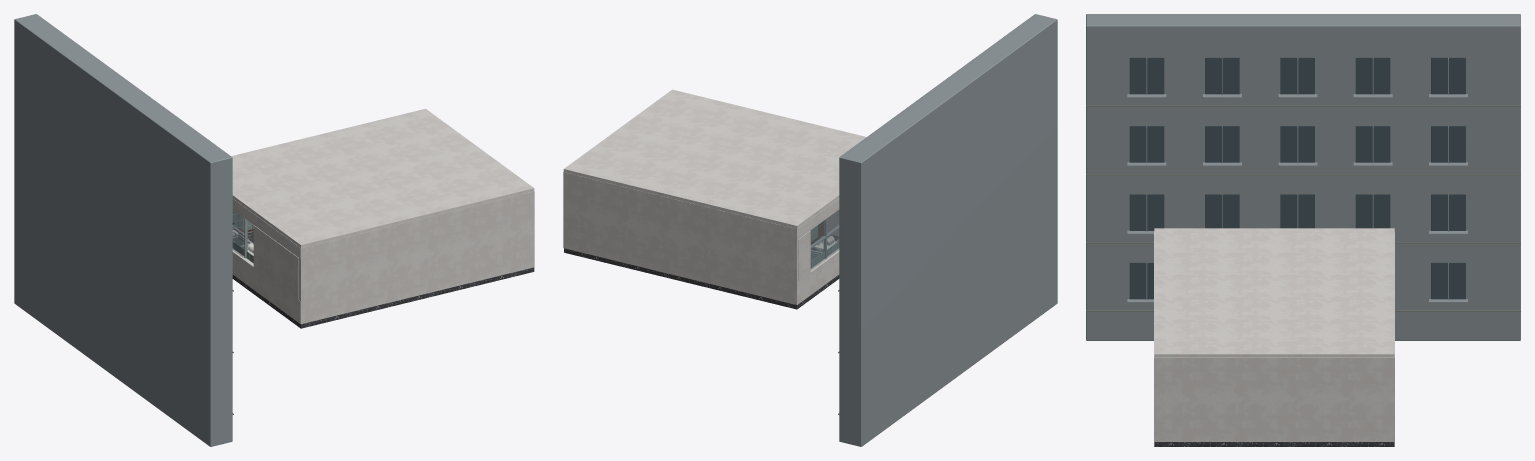
File: apartment_302.glb
3 renders of one model, left to right at view 1: azimuth 30°, elevation 25°; view 2: azimuth 150°, elevation 25°; view 3: azimuth 270°, elevation 25°, orthographic. The views are drawn at different scales.
Visible parts, largest first — view 1: Architecture_courtyard_concrete, Architecture_aged_plaster, Architecture_stone_floor; view 2: Architecture_courtyard_concrete, Architecture_aged_plaster, Architecture_stone_floor, Architecture_window_glass; view 3: Architecture_courtyard_concrete, Architecture_aged_plaster, Architecture_courtyard_windows, Architecture_stained_plaster, Architecture_stone_floor.
Boxes of the visible parts, <box> form: Architecture_courtyard_concrete: <box>14,14,232,446</box>; Architecture_aged_plaster: <box>231,108,534,323</box>; Architecture_stone_floor: <box>232,231,534,328</box>; Architecture_courtyard_concrete: <box>839,14,1057,446</box>; Architecture_aged_plaster: <box>563,89,866,304</box>; Architecture_stone_floor: <box>564,235,839,309</box>; Architecture_window_glass: <box>810,210,838,270</box>; Architecture_courtyard_concrete: <box>1086,14,1520,340</box>; Architecture_aged_plaster: <box>1154,228,1394,441</box>; Architecture_courtyard_windows: <box>1129,57,1465,299</box>; Architecture_stained_plaster: <box>1086,105,1520,311</box>; Architecture_stone_floor: <box>1154,442,1394,446</box>.
Size of the model in its own units: 15.66 by 12 by 15.
Materials: 27 (2 with a texture image).
